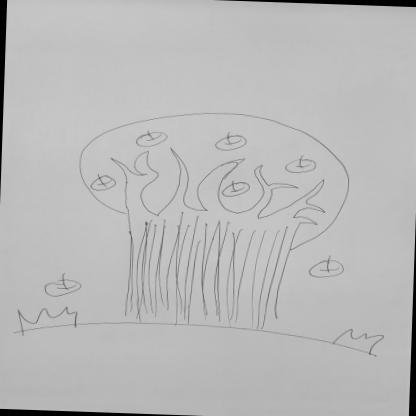apple: (41, 272, 82, 298), (308, 254, 345, 278), (214, 130, 247, 151), (134, 128, 167, 148), (284, 154, 317, 173), (88, 174, 119, 193), (222, 180, 250, 198)
branch_sharp: (107, 146, 329, 227)
crown_mushroom: (76, 108, 352, 250)
root_none: (106, 306, 308, 374)
trunk_bark: (124, 222, 298, 312)
